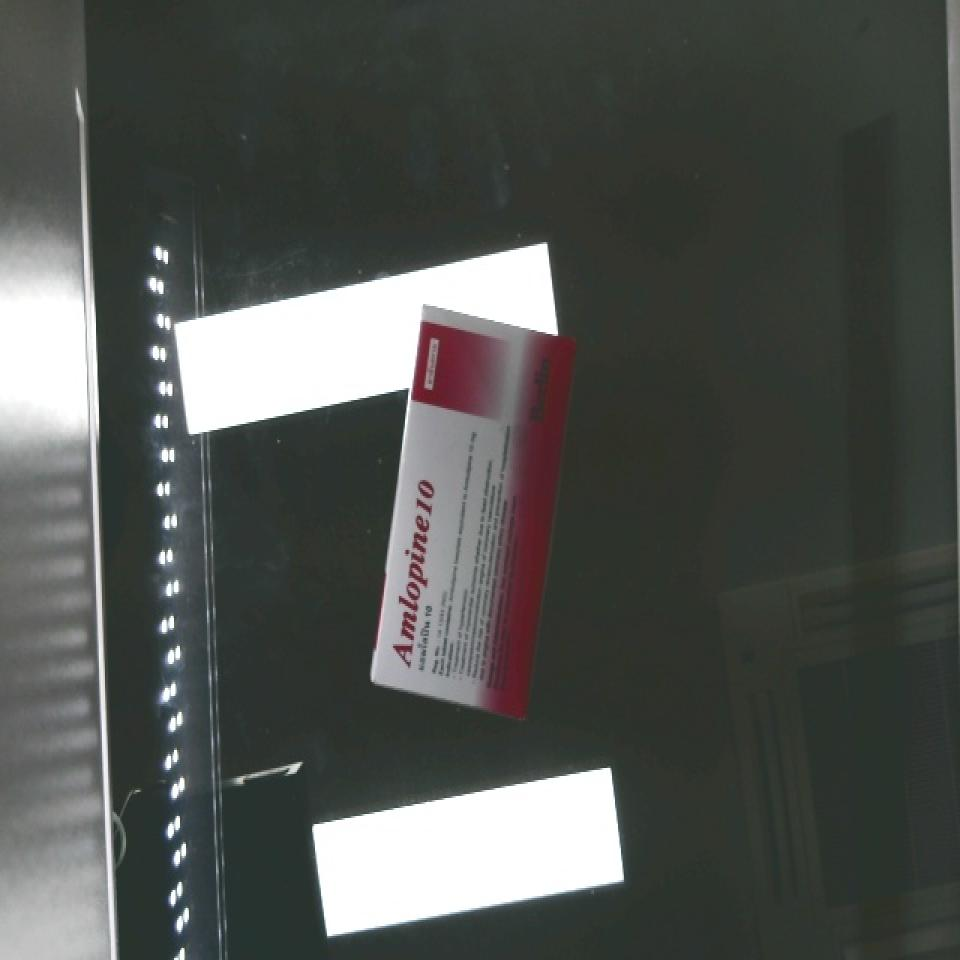medicine_box: (368, 303, 577, 722)
medicine_label_obb: (375, 459, 449, 688)
